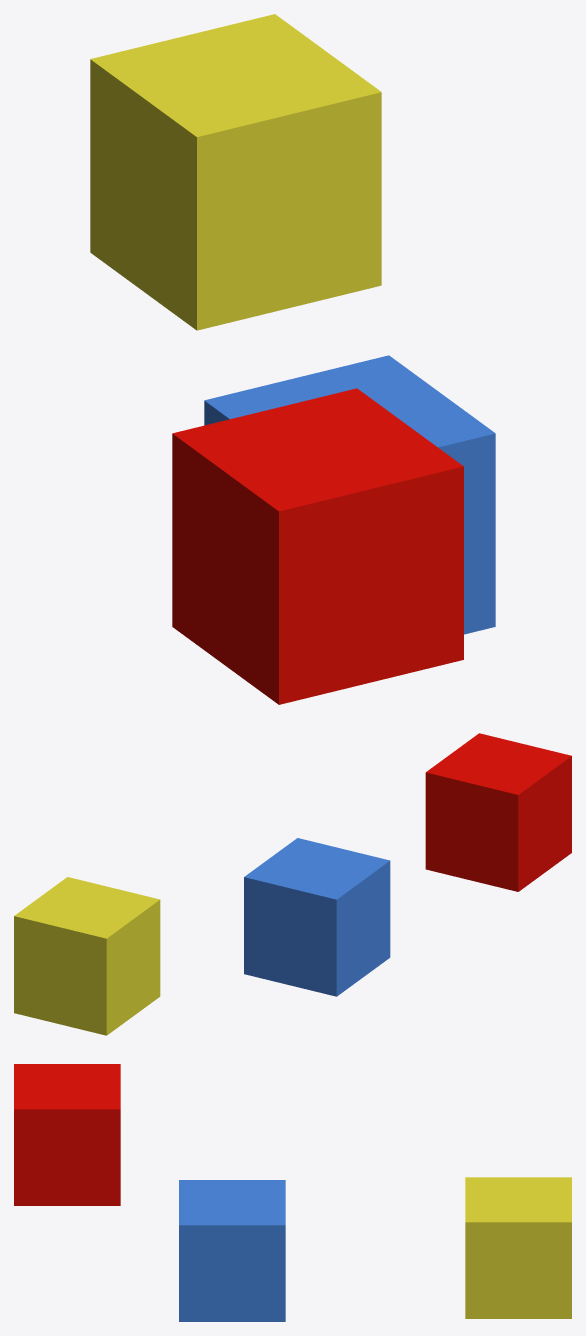
File: test-cubes.glb
3 renders of one model, top to bottom at view 1: azimuth 30°, elevation 25°; view 2: azimuth 150°, elevation 25°; view 3: azimuth 270°, elevation 25°, orthographic. The views are drawn at different scales.
Visible parts, largest first — view 1: Cube.001, Cube.002, Cube; view 2: Cube, Cube.001, Cube.002; view 3: Cube, Cube.001, Cube.002.
Boxes of the visible parts, <box> form: Cube.001: <box>172,388,463,704</box>; Cube.002: <box>90,14,381,330</box>; Cube: <box>204,355,495,634</box>; Cube: <box>244,838,390,996</box>; Cube.001: <box>425,733,571,891</box>; Cube.002: <box>14,877,160,1035</box>; Cube: <box>179,1180,285,1321</box>; Cube.001: <box>14,1064,120,1205</box>; Cube.002: <box>465,1177,571,1318</box>.
Bounding box in the file's own units: 5.99 × 3.4 × 10.46.
